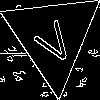V: (28, 12, 77, 68)
